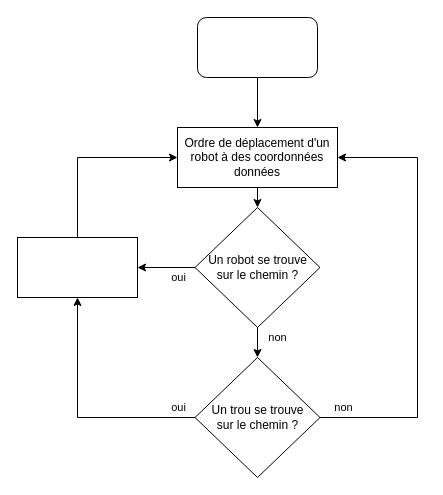
The diagram is 443 pixels wide and 495 high, and some of its shapes have lost their labels. Each missing label, with the centre of its shape:
Lancement d'un scénario: the point at 257,47
Se tourner puis avancer ou reculer: the point at 77,267
